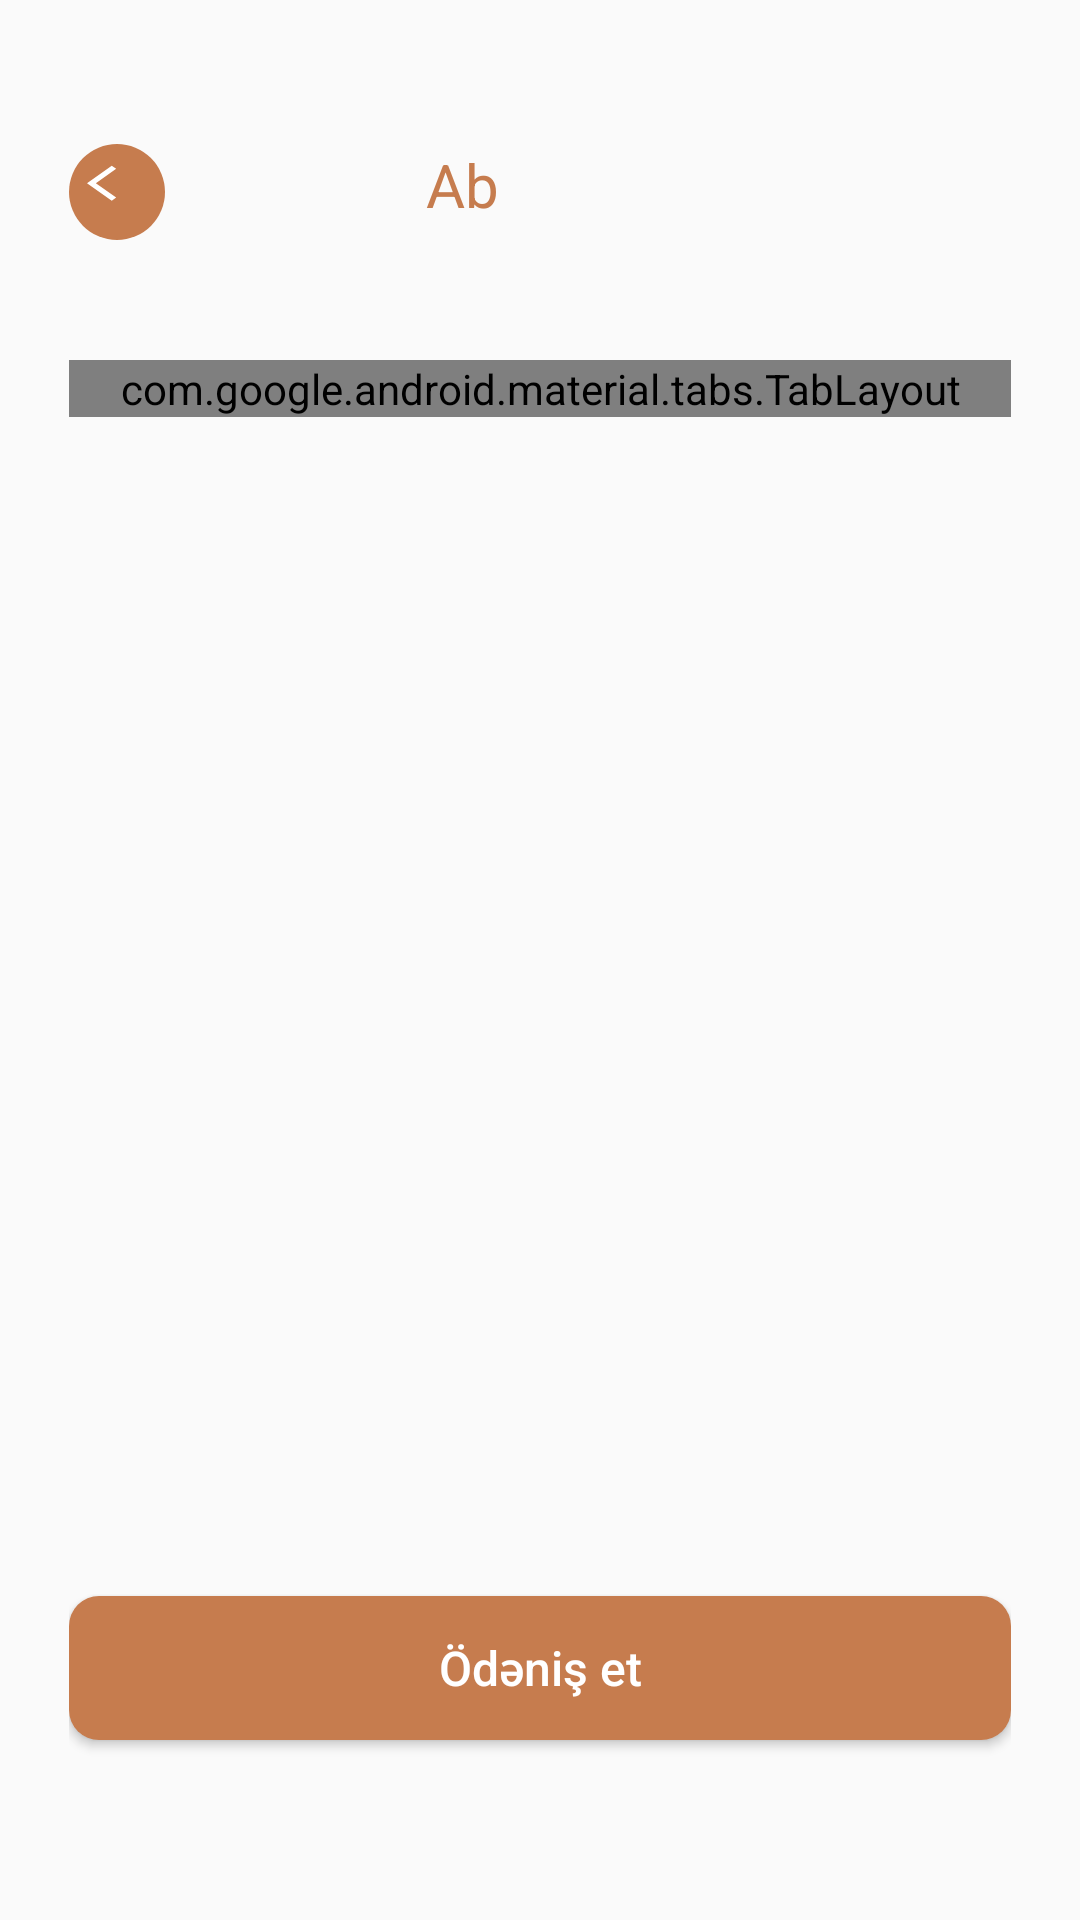

Locate icon controls on the screen. Image size 1080×1920, boxes as bbox=(x1, y1, x2, y2).
back: bbox=(69, 144, 165, 240)
